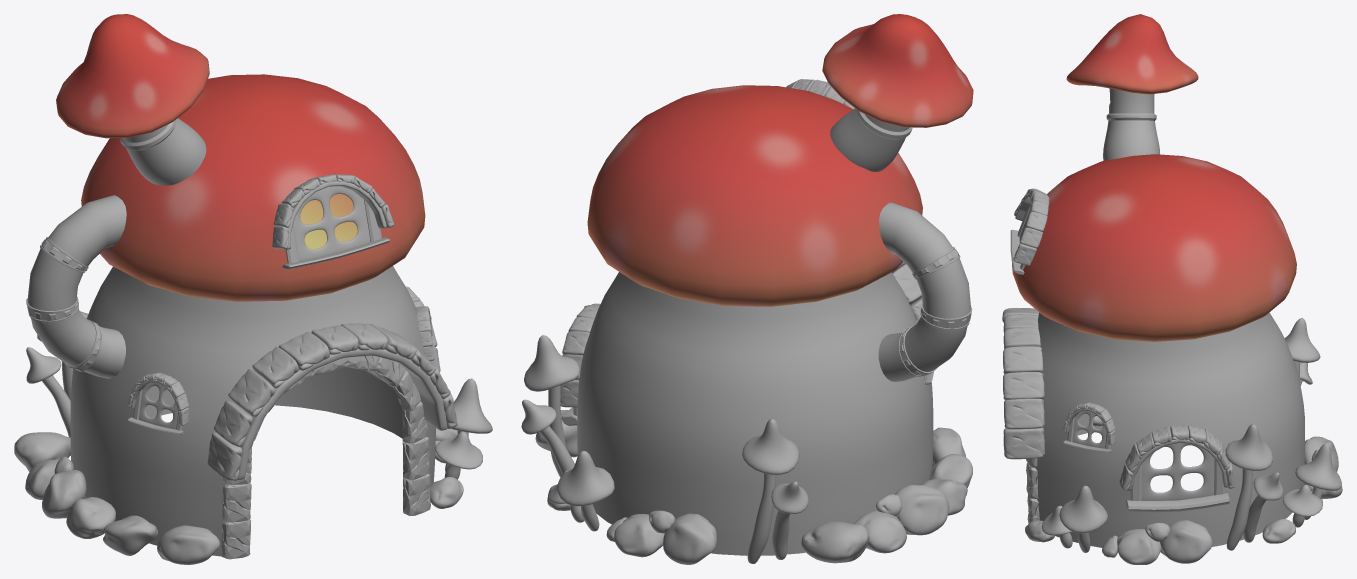
File: mushroomHouse_textured.fbx
3 views of the same model, side by side, from view 1: azimuth 30°, elevation 25°; view 2: azimuth 150°, elevation 25°; view 3: azimuth 270°, elevation 25° (orthographic). The views are drawn at different scales.
Parts seen in each view (by area): view 1: pSphere1, pCylinder1, pSphere19, pTorus1, pCylinder4, pPipe1, windowGrid1, pSphere8, pSphere18, pSphere11, pSphere9, pSphere3 (+24 smaller); view 2: pCylinder1, pSphere1, pSphere19, pTorus1, pCylinder4, pSphere3, pSphere18, pSphere14, pSphere6, pSphere24, pSphere27, pSphere22 (+12 smaller); view 3: pSphere1, pCylinder1, pSphere19, pCylinder4, windowGrid2, pSphere7, pSphere17, pSphere27, pSphere24, pSphere5, cubeRock22, cubeRock37 (+15 smaller).
Boxes of the visible parts, x1,y1,x2,y2 form: pSphere1: (81,74,425,301); pCylinder1: (70,266,435,556); pSphere19: (56,14,209,138); pTorus1: (26,195,126,378); pCylinder4: (119,118,206,185); pPipe1: (238,347,447,479); windowGrid1: (293,186,370,260); pSphere8: (157,525,219,564); pSphere18: (42,470,86,518); pSphere11: (66,497,115,538); pSphere9: (103,515,158,555); pSphere3: (14,432,70,471); pCylinder1: (577,272,933,555); pSphere1: (587,85,922,306); pSphere19: (822,14,973,127); pTorus1: (878,202,972,381); pCylinder4: (830,108,912,171); pSphere3: (801,521,869,563); pSphere18: (895,485,949,535); pSphere14: (663,513,716,564); pSphere6: (742,418,799,474); pSphere24: (557,451,614,506); pSphere27: (524,335,579,391); pSphere22: (614,514,664,557); pSphere1: (1012,154,1296,341); pCylinder1: (1035,312,1304,547); pSphere19: (1066,14,1198,94); pCylinder4: (1103,88,1160,160); windowGrid2: (1141,443,1214,500); pSphere7: (1160,520,1212,563); pSphere17: (1059,485,1107,533); pSphere27: (1225,424,1272,470); pSphere24: (1295,443,1341,490); pSphere5: (1117,529,1161,564); cubeRock22: (1003,427,1044,459); cubeRock37: (1004,398,1044,429).
Size of the model in its own units: 3.71 by 4.3 by 3.17.
